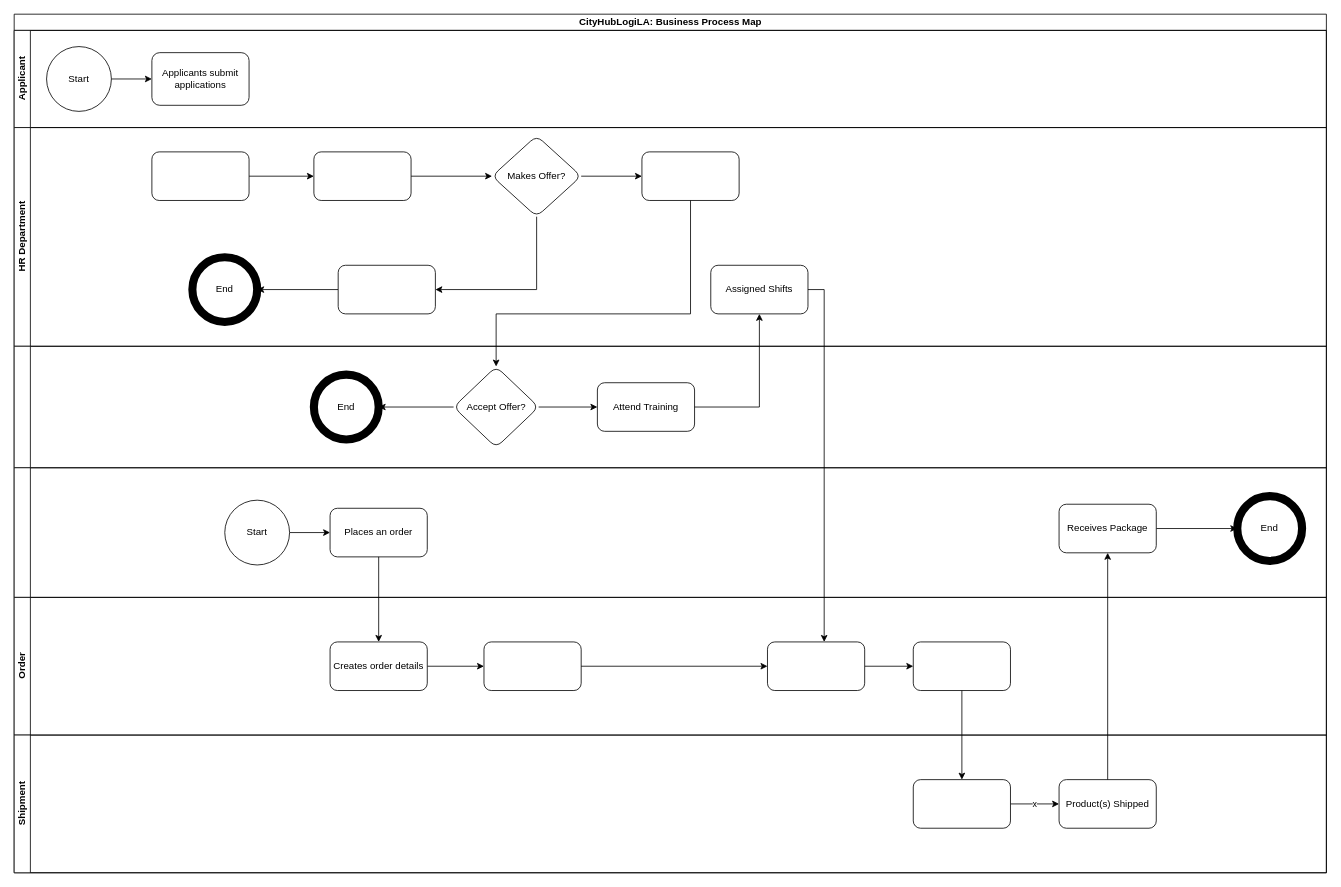
The diagram is 1341 pixels wide and 887 high, and some of its shapes have lost their labels. The box of each missing label's shape, as (x1, y1, x2, y2) in pixels:
Assigned Packaging: (767, 641, 865, 691)
Client: (13, 467, 1326, 597)
Conducts Interviews: (313, 151, 411, 200)
Generates an Invoice: (483, 641, 581, 691)
HR reviews applications: (151, 151, 249, 200)
Packaging perofrmed: (912, 641, 1010, 691)
Sends Offer: (641, 151, 739, 200)
Sends Rejection Letter: (337, 264, 435, 314)
Shipment Details Processed: (912, 779, 1010, 828)
Staff: (13, 345, 1326, 468)
